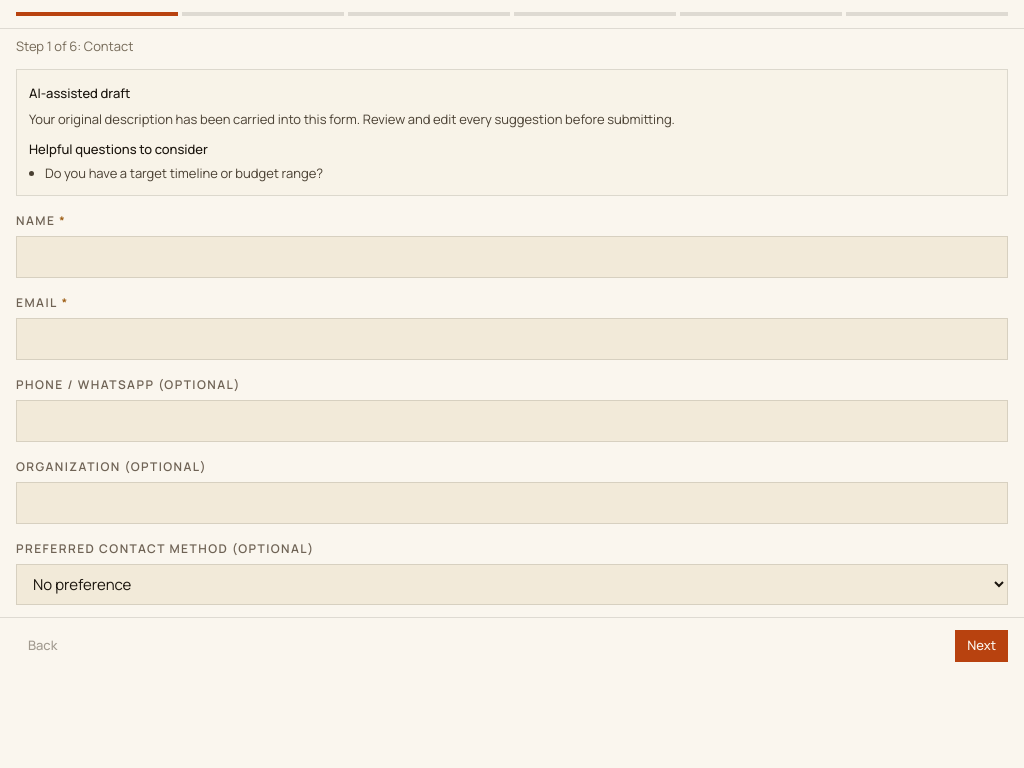
Test: ProjectDiscoveryWizard › prefills a reviewable structured draft from project analysis
The image size is (1024, 768).
Expected: the text "Helpful questions to consider" is shown, [29,140,208,158]
Type "Jane Client" into the field labelled "Name*" at x=512, y=257, box [16,236,1008,278]
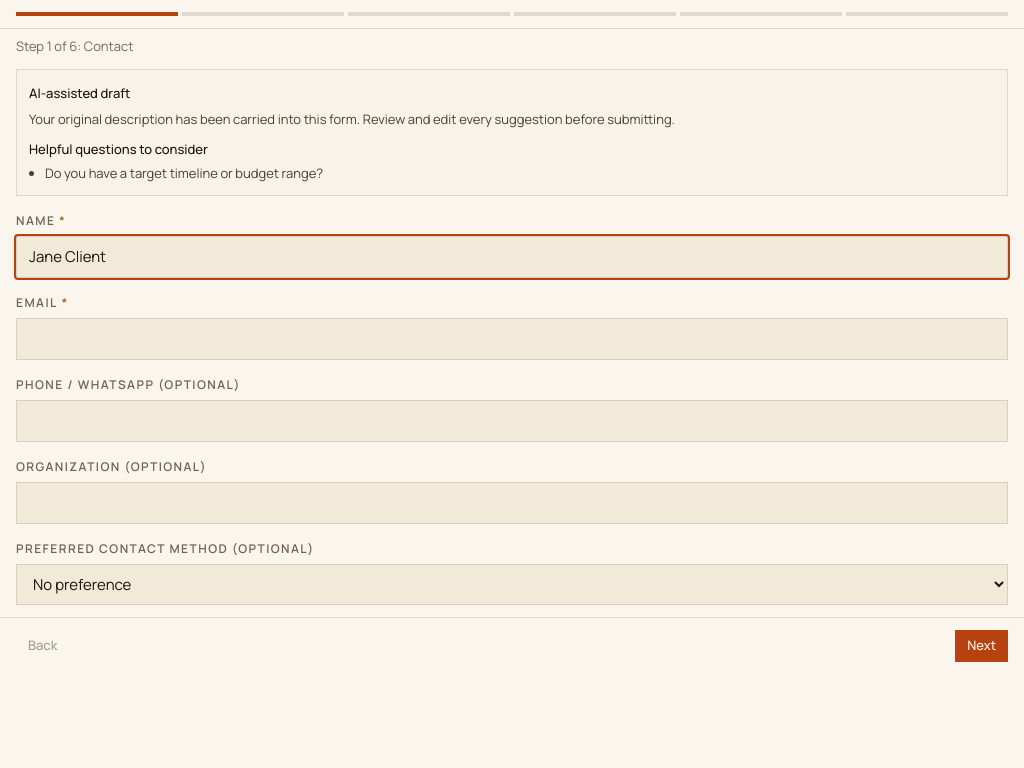
Type "jane@example.com" into the field labelled "Email*" at x=512, y=339, box [16,318,1008,360]
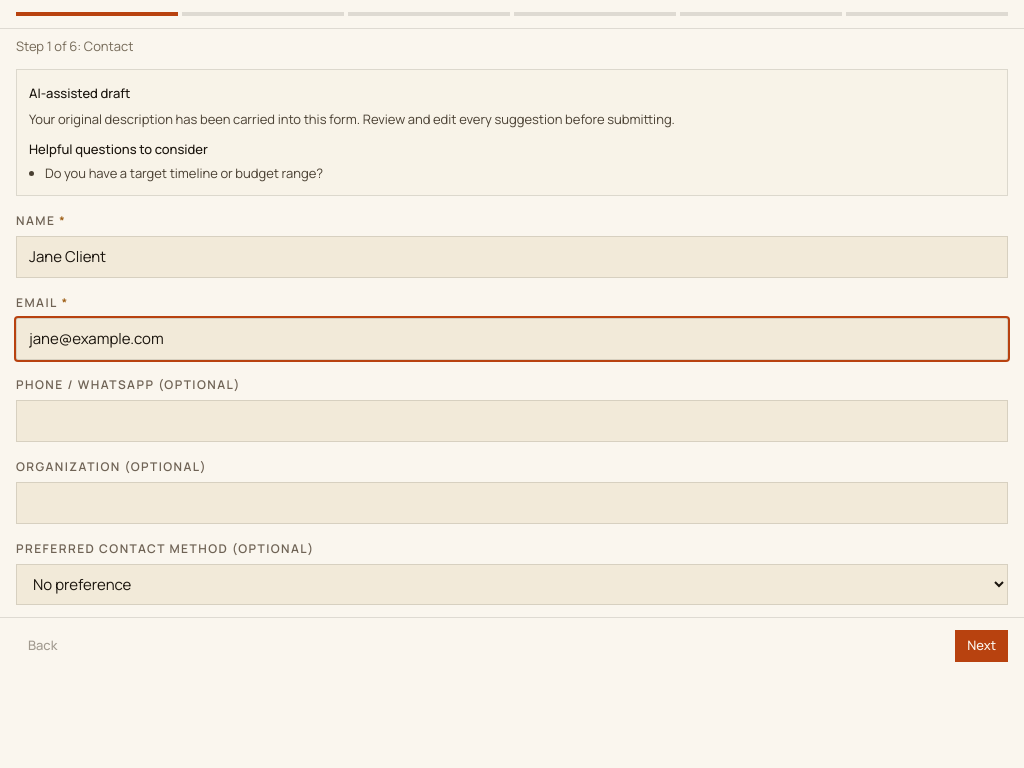
Click the button "Next" at x=982, y=646, box [955,630,1008,662]
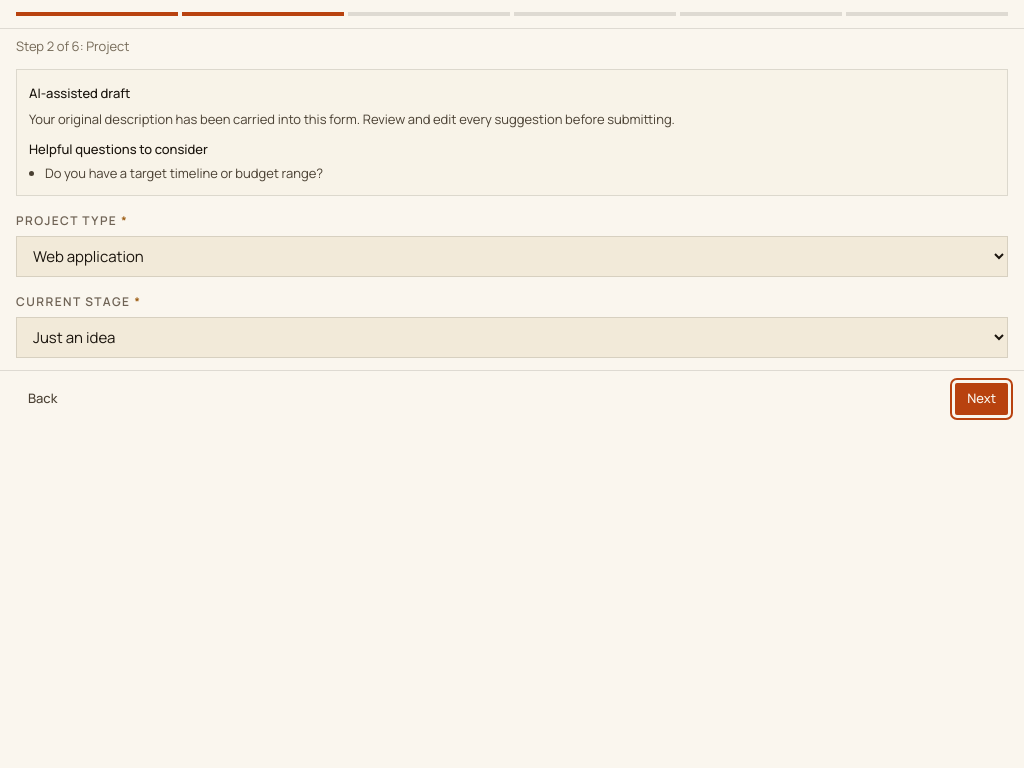
Expected: the dropdown labelled "Project type*" shows "Web application", [16,236,1008,277]
Expected: the dropdown labelled "Current stage*" shows "Just an idea", [16,317,1008,358]
